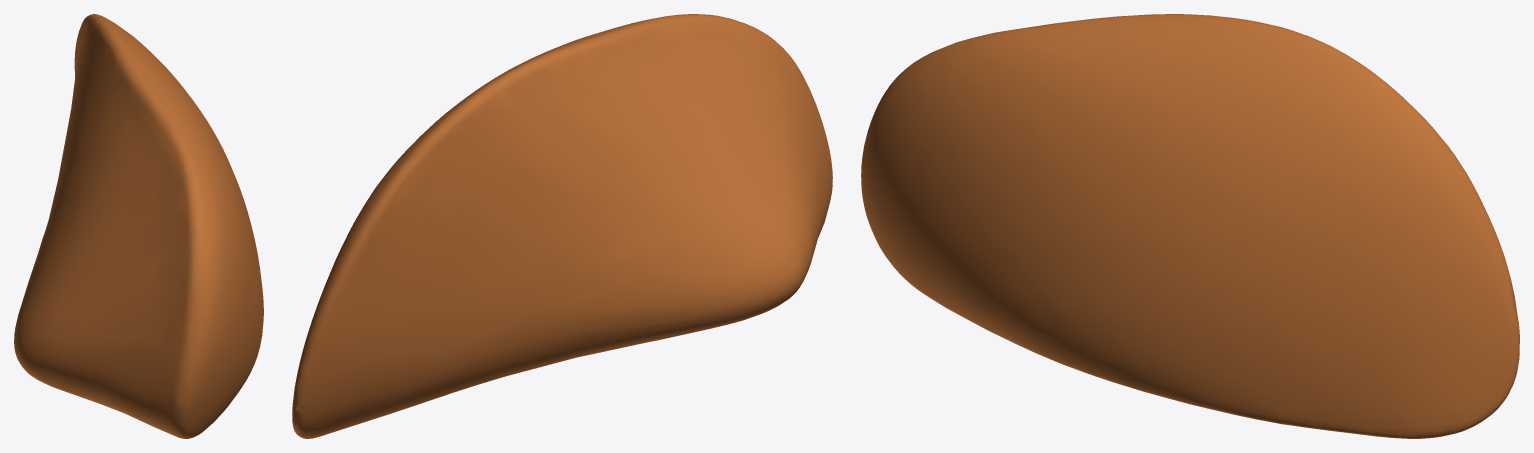
File: Globus_pallidus_left.glb
The picture shows the model from 3 angles, left to right: view 1: azimuth 30°, elevation 25°; view 2: azimuth 150°, elevation 25°; view 3: azimuth 270°, elevation 25°; orthographic projection. The views are drawn at different scales.
Visible parts, largest first — view 1: Globus_pallidus.l_grp1.096; view 2: Globus_pallidus.l_grp1.096; view 3: Globus_pallidus.l_grp1.096.
Boxes of the visible parts, bbox=[...] form: Globus_pallidus.l_grp1.096: bbox=[14, 14, 263, 438]; Globus_pallidus.l_grp1.096: bbox=[292, 14, 832, 438]; Globus_pallidus.l_grp1.096: bbox=[861, 14, 1519, 438].
Bounding box in the file's own units: 0.0162 × 0.0168 × 0.0284.
